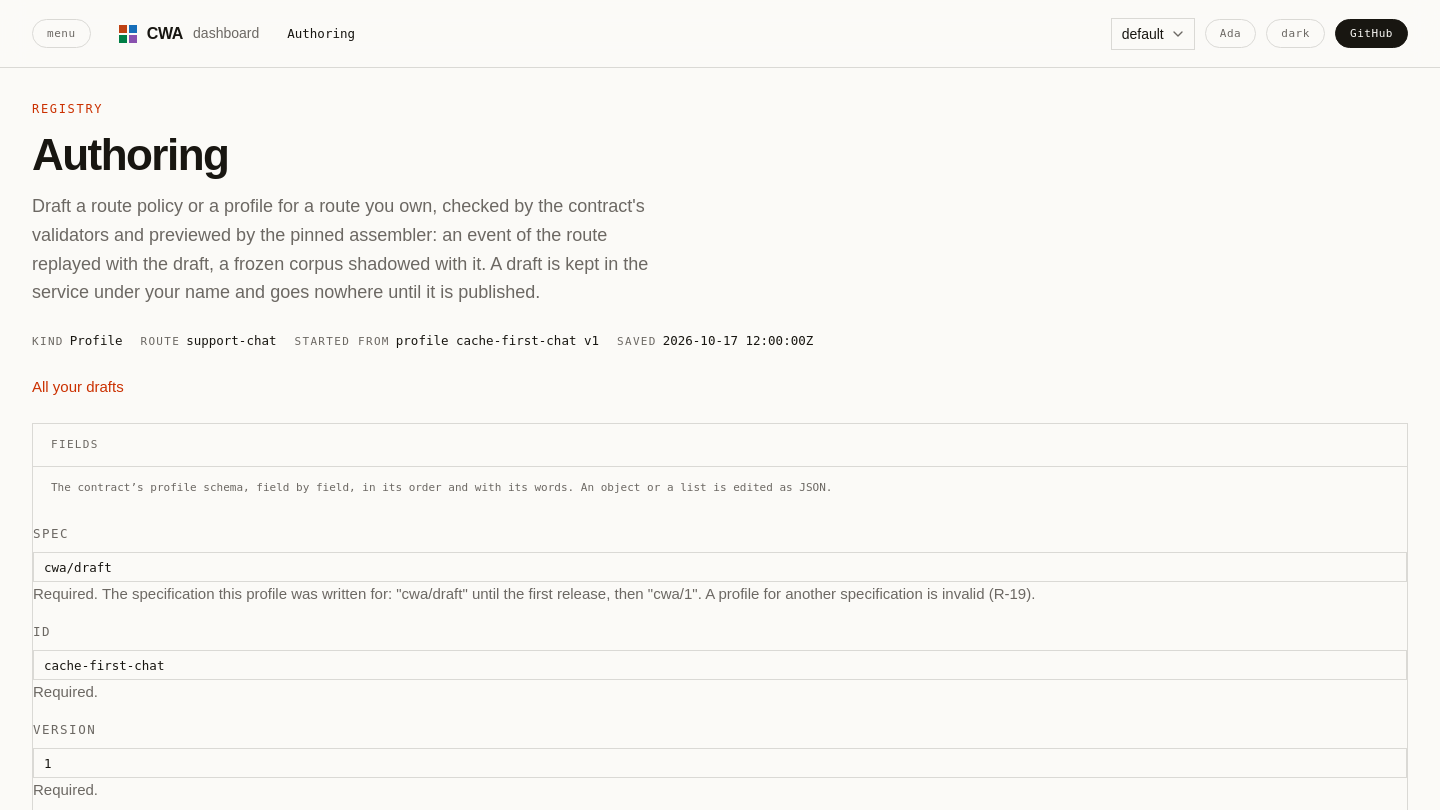
Test: publishing a draft › publishes the draft as saved, so a change waits for Save
Replace the text in the field labelled "version" with "5" at [720, 763], box [33,748,1407,778]
(page scrolled)
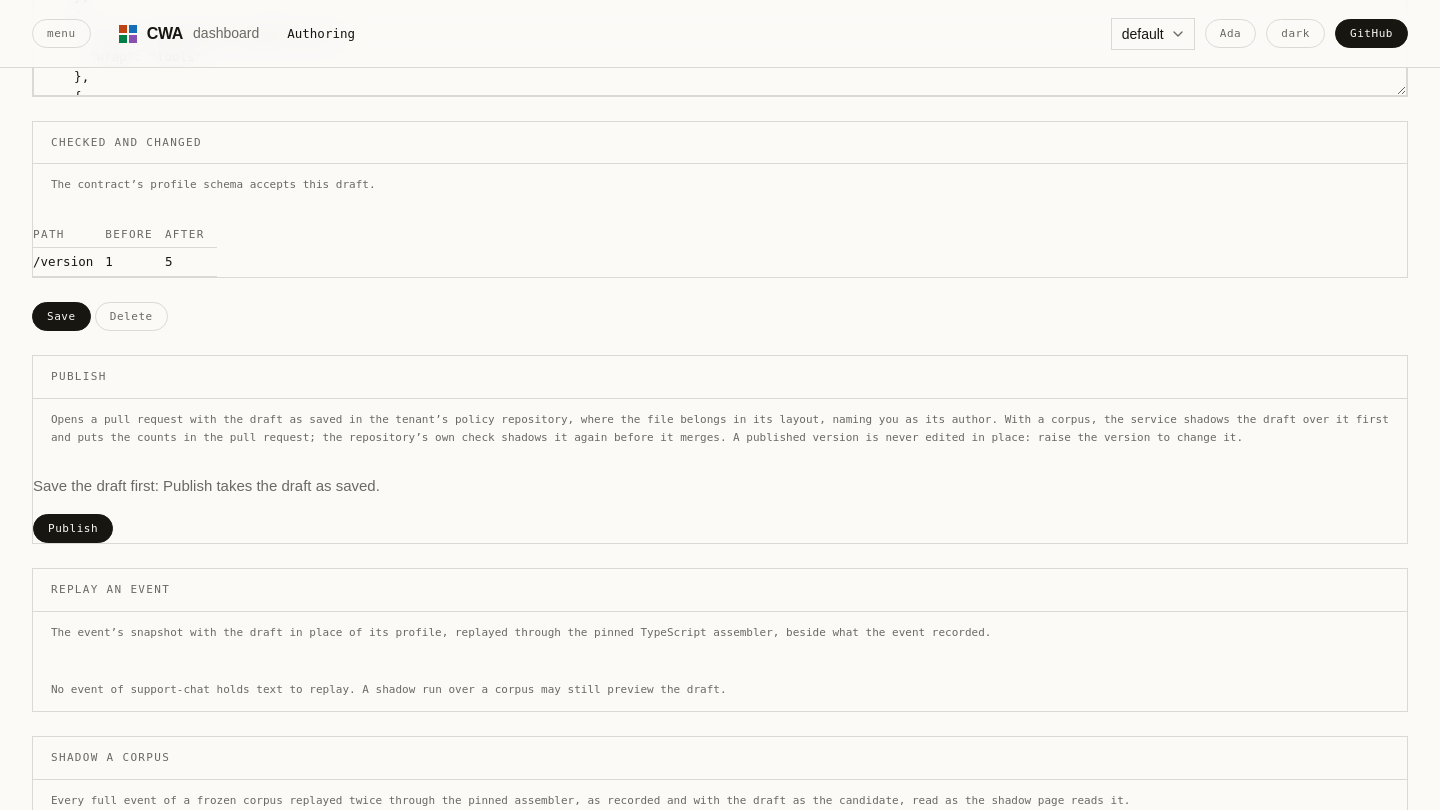
Now the button "Publish" is disabled, box [33,514,113,543]
Now the element "Publish" shows "Save the draft first", box [33,477,380,494]
